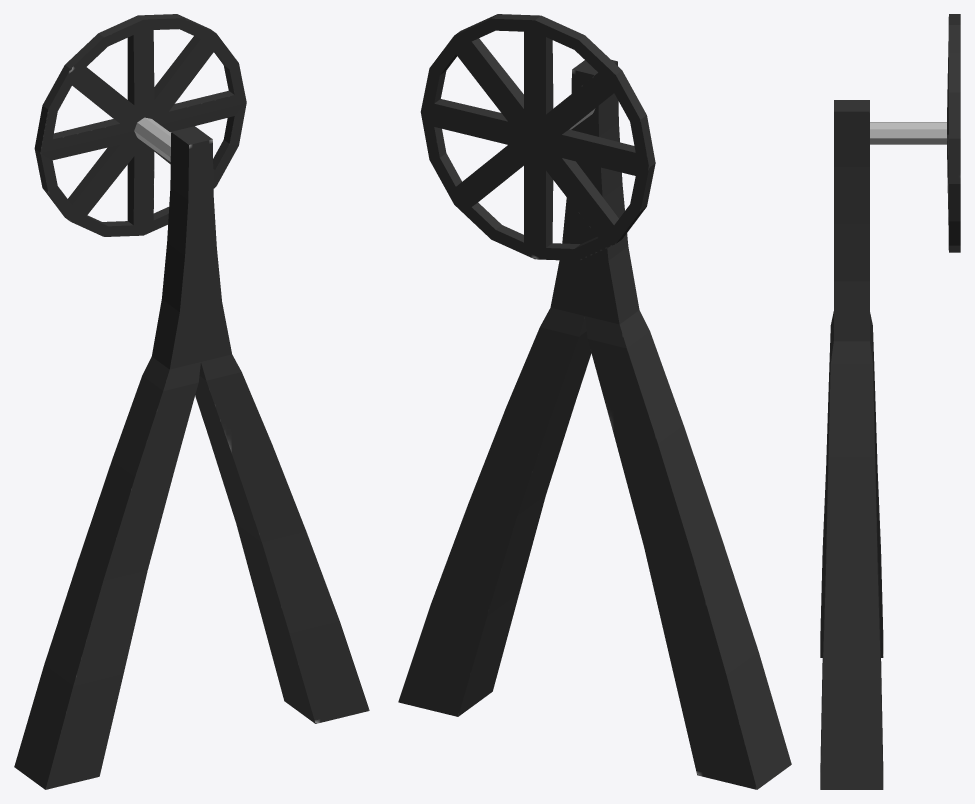
The model's file is Barca_volante.obj.
3 views of the same model, side by side, from view 1: azimuth 30°, elevation 25°; view 2: azimuth 150°, elevation 25°; view 3: azimuth 270°, elevation 25° (orthographic). The views are drawn at different scales.
Parts seen in each view (by area): view 1: Volante; view 2: Volante; view 3: Volante.
Part boxes in pixels (bbox=[...]): Volante: bbox=[14, 14, 369, 789]; Volante: bbox=[398, 14, 791, 789]; Volante: bbox=[820, 14, 960, 789].
Bounding box in the file's own units: 2.07 × 4.16 × 0.7706.
2 materials, 2 textured.
